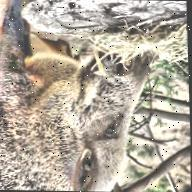boar: (0, 0, 159, 192)
